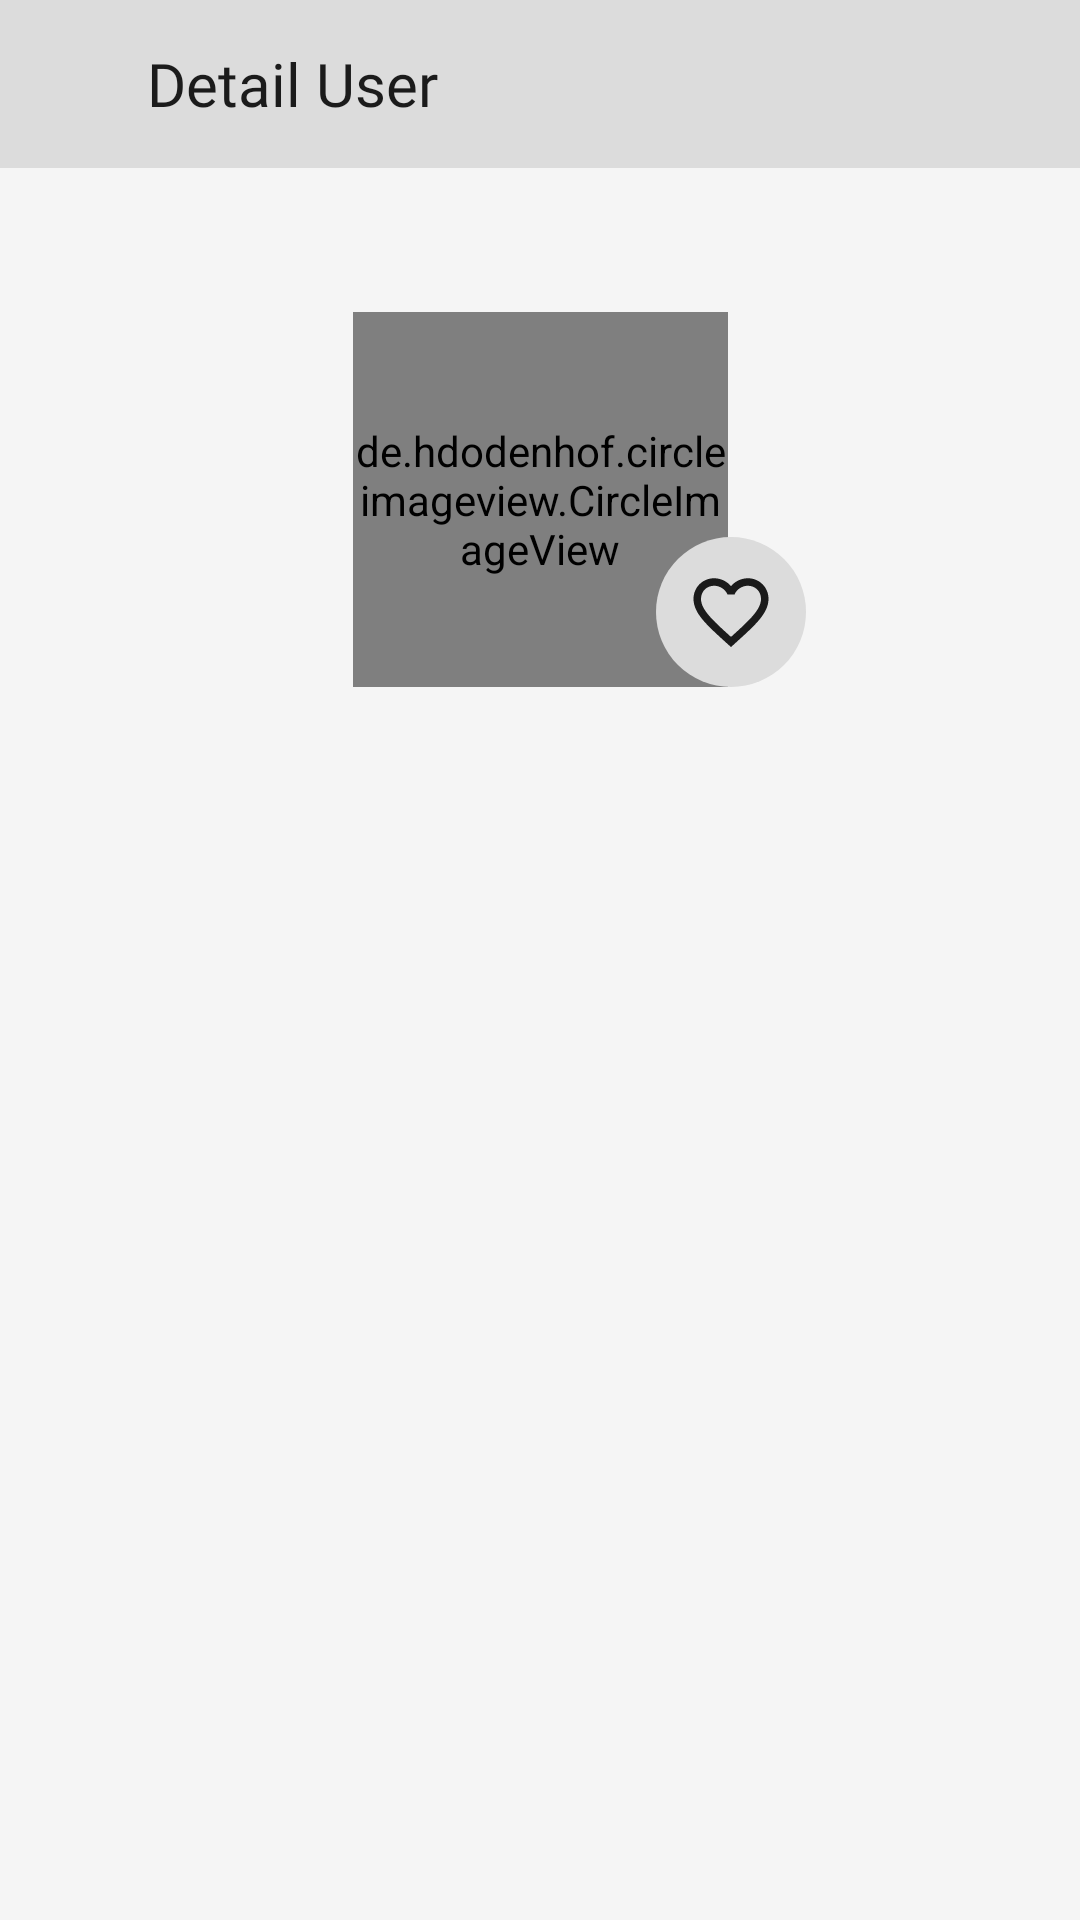

Named icons in this screenshot (1080x1920) and their centers, [x,y]:
Button favorite user: [731,612]
